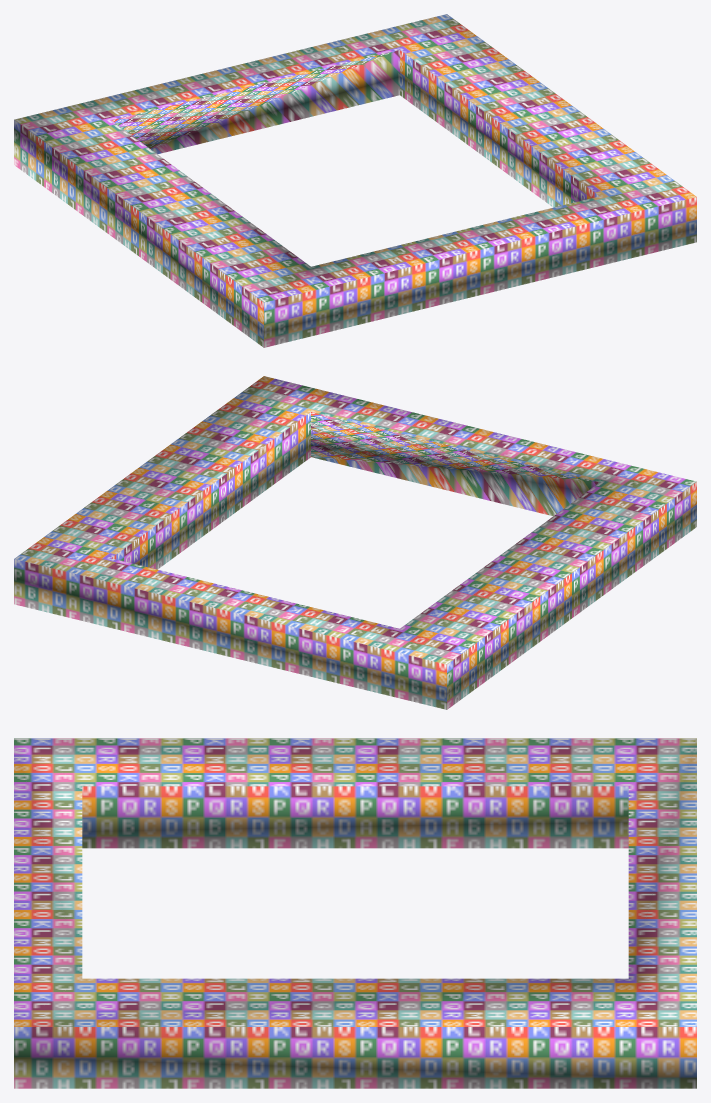
Rendered from Stair_Down.obj.
The picture shows the model from 3 angles, top to bottom: view 1: azimuth 30°, elevation 25°; view 2: azimuth 150°, elevation 25°; view 3: azimuth 270°, elevation 25°; orthographic projection. The views are drawn at different scales.
Parts seen in each view (by area): view 1: cube1; view 2: cube1; view 3: cube1.
Part boxes in pixels (bbox=[...]): cube1: bbox=[14, 14, 696, 347]; cube1: bbox=[14, 376, 696, 709]; cube1: bbox=[14, 738, 696, 1088].
Bounding box in the file's own units: 1 × 0.1 × 1.
1 material, 1 textured.
